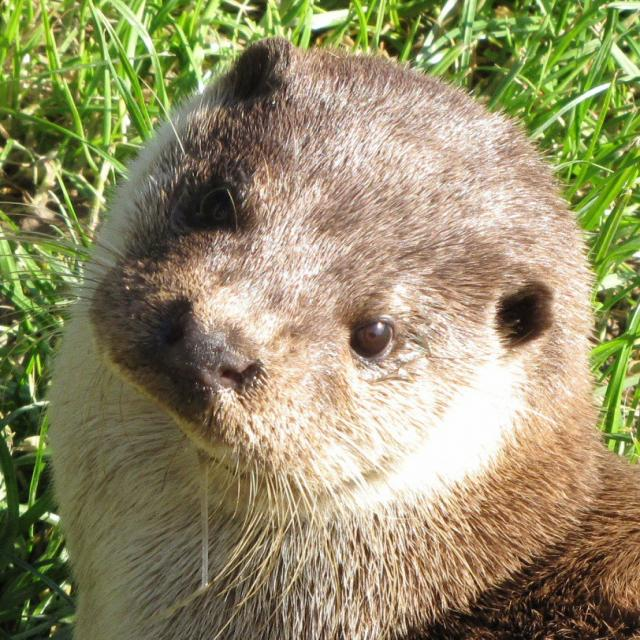otter: (56, 46, 632, 638)
